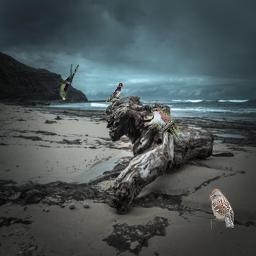Cuckoo: (151, 108, 185, 148), (59, 64, 80, 100)
Sparrow: (209, 189, 234, 229)
Swallow: (105, 83, 123, 103)
